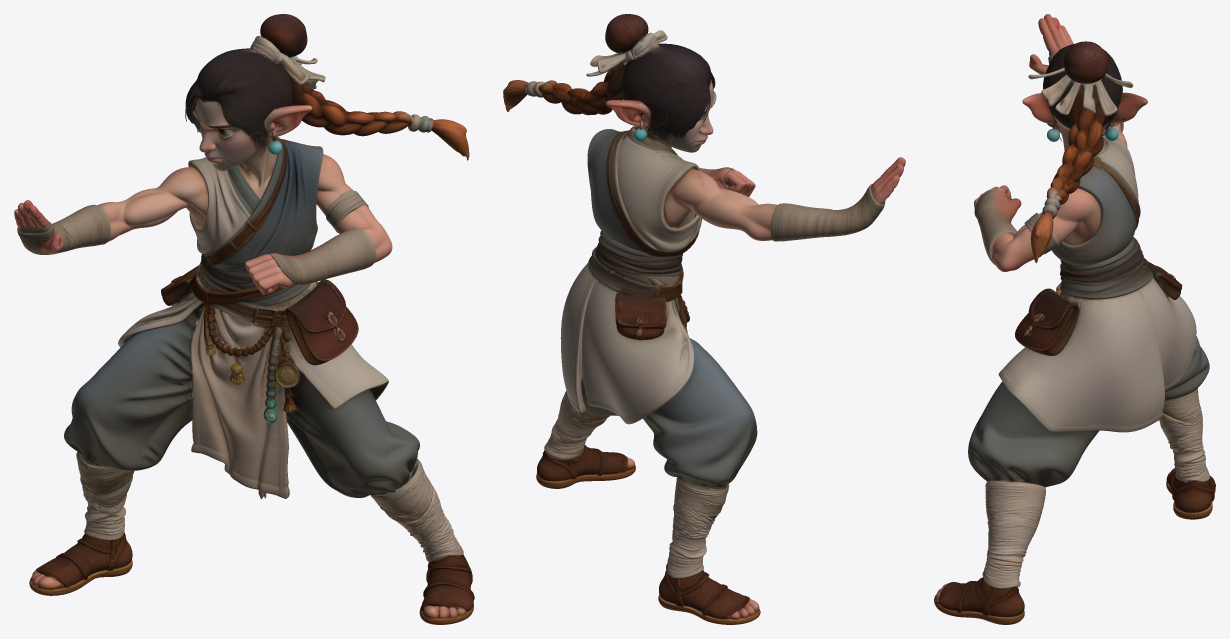
Rendered from halfling_monk_full_female_01.glb.
3 views of the same model, side by side, from view 1: azimuth 30°, elevation 25°; view 2: azimuth 150°, elevation 25°; view 3: azimuth 270°, elevation 25° (orthographic). The views are drawn at different scales.
Visible parts, largest first — view 1: material; view 2: material; view 3: material.
Part boxes in pixels (<box>): material: <box>14,14,474,624</box>; material: <box>503,14,905,624</box>; material: <box>934,14,1215,624</box>.
Bounding box in the file's own units: 0.7692 × 0.9466 × 0.4656.
1 material, 1 textured.
